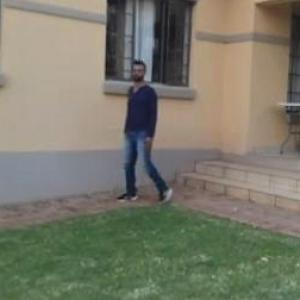follow: (118, 52, 165, 209)
